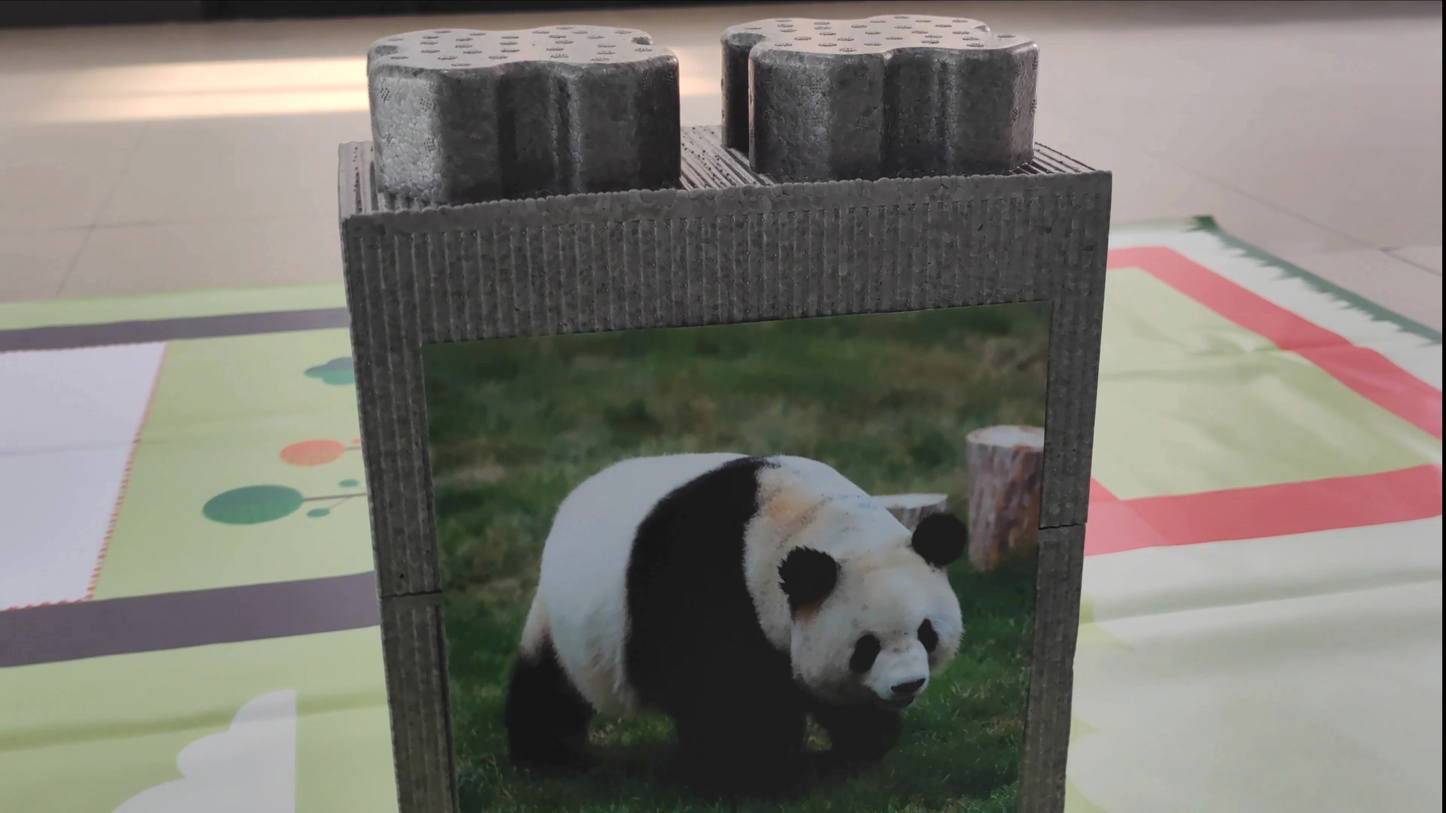panda: (490, 350, 1005, 783)
